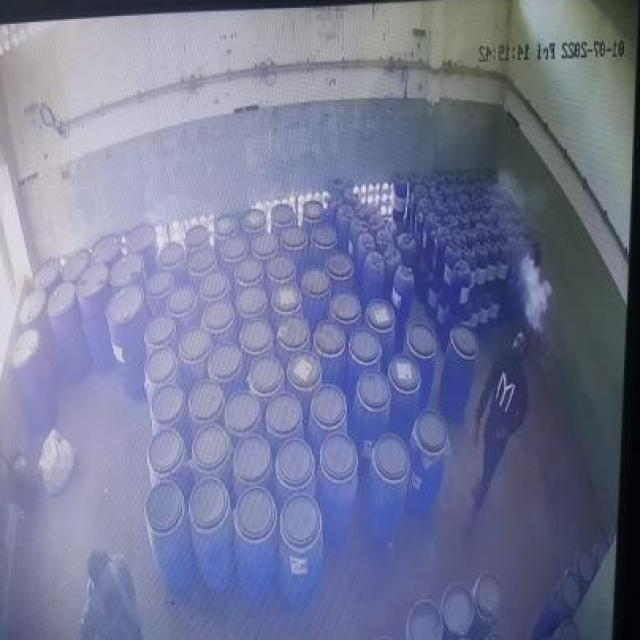fire: (520, 250, 557, 336)
